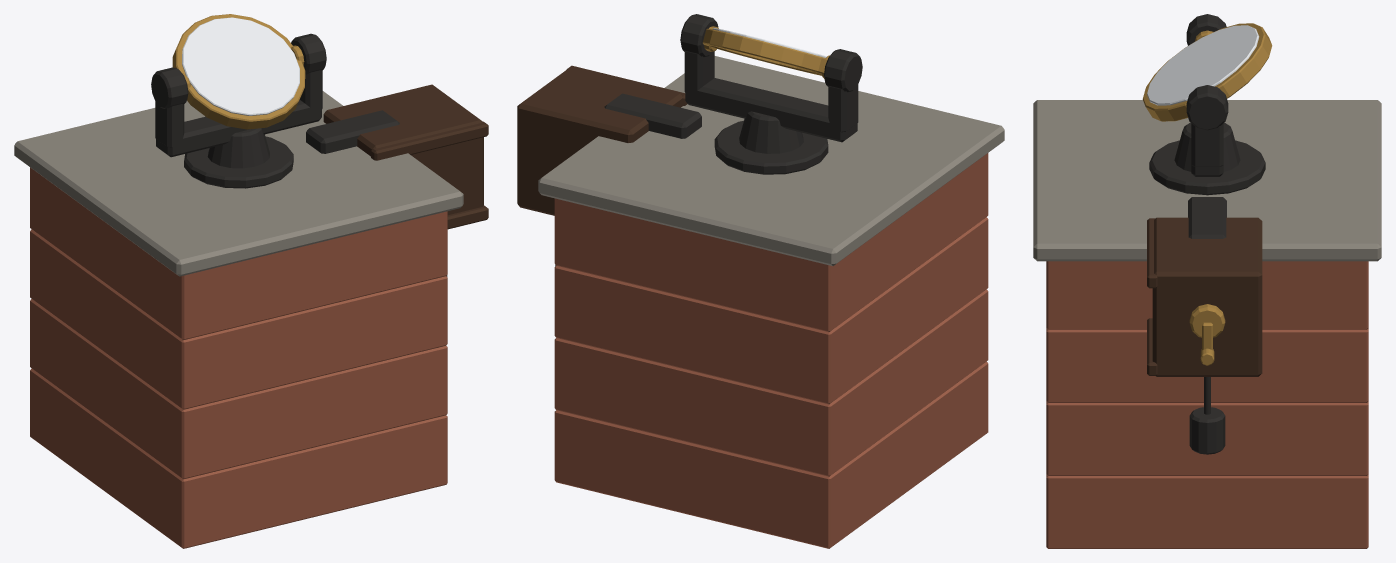
File: coelostat.glb
3 views of the same model, side by side, from view 1: azimuth 30°, elevation 25°; view 2: azimuth 150°, elevation 25°; view 3: azimuth 270°, elevation 25° (orthographic). The views are drawn at different scales.
Visible parts, largest first — view 1: coelostat, coelostat_mirror; view 2: coelostat, coelostat_mirror; view 3: coelostat, coelostat_mirror.
Part boxes in pixels (x1,y1,x2,y2): coelostat: (14, 33, 488, 548); coelostat_mirror: (172, 14, 305, 129); coelostat: (517, 14, 1004, 548); coelostat_mirror: (703, 26, 829, 78); coelostat: (1033, 14, 1381, 548); coelostat_mirror: (1142, 23, 1272, 121).
Size of the model in its own units: 1.45 by 1.53 by 1.08.
